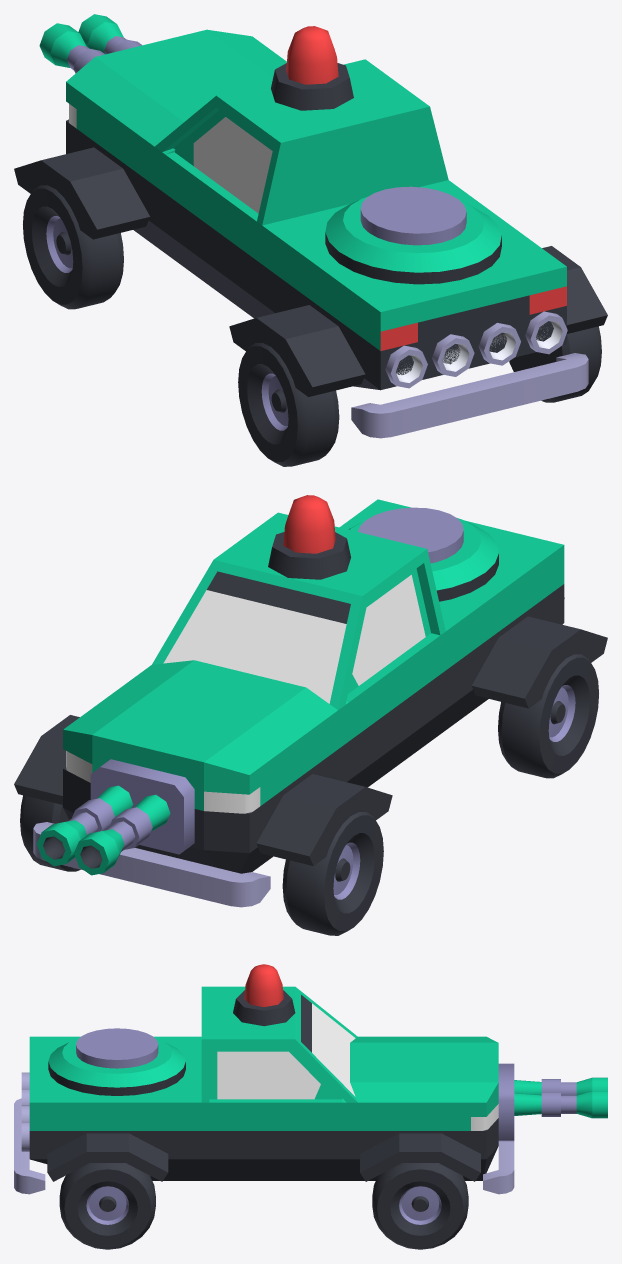
The model's file is police.glb.
3 renders of one model, top to bottom at view 1: azimuth 30°, elevation 25°; view 2: azimuth 150°, elevation 25°; view 3: azimuth 270°, elevation 25°, orthographic. The views are drawn at different scales.
Visible parts, largest first — view 1: mergedBlocks(Clone); view 2: mergedBlocks(Clone); view 3: mergedBlocks(Clone).
Part boxes in pixels (x1,y1,x2,y2): mergedBlocks(Clone): (14, 14, 607, 466); mergedBlocks(Clone): (14, 495, 607, 935); mergedBlocks(Clone): (14, 964, 607, 1249).
Size of the model in its own units: 1.63 by 1.63 by 3.8.
